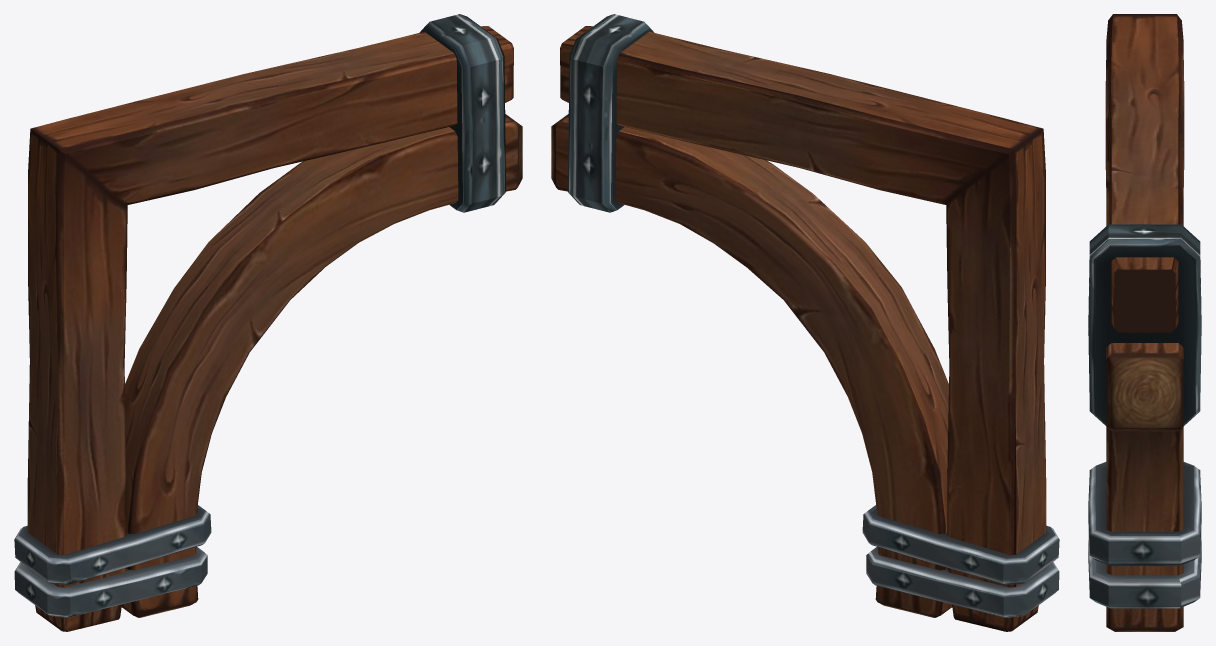
Rendered from Pole_Corner_C.fbx.
3 views of the same model, side by side, from view 1: azimuth 30°, elevation 25°; view 2: azimuth 150°, elevation 25°; view 3: azimuth 270°, elevation 25° (orthographic). The views are drawn at different scales.
Parts seen in each view (by area): view 1: pCube21; view 2: pCube21; view 3: pCube21.
Part boxes in pixels (bbox=[...]): pCube21: bbox=[14, 14, 522, 631]; pCube21: bbox=[551, 14, 1059, 631]; pCube21: bbox=[1088, 14, 1201, 631].
Bounding box in the file's own units: 7.34 × 7.28 × 1.34.
